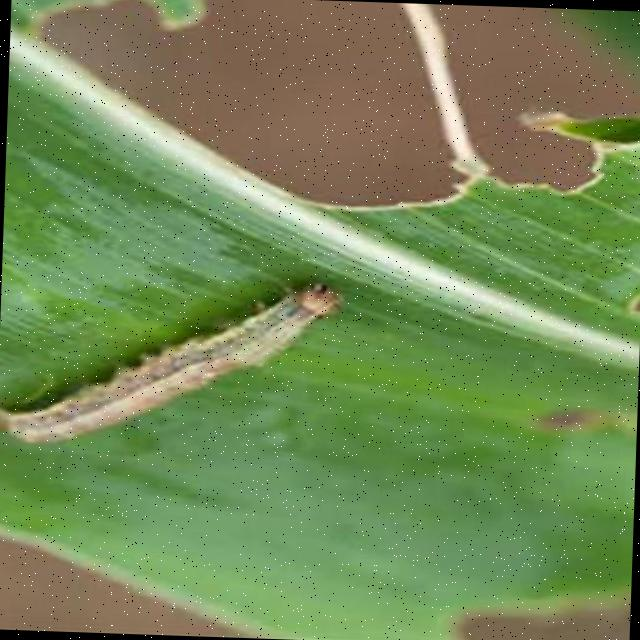worm: (1, 268, 343, 456)
